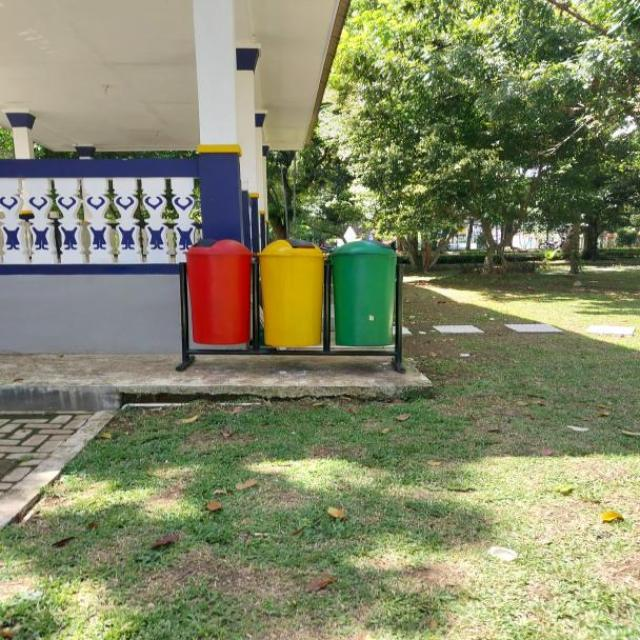dustbin ahead at: (176, 230, 402, 353)
